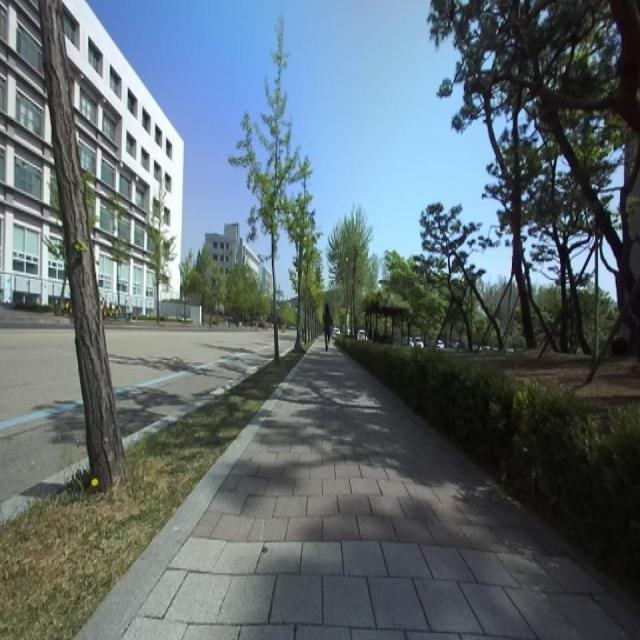sidewalk: (125, 340, 640, 639)
